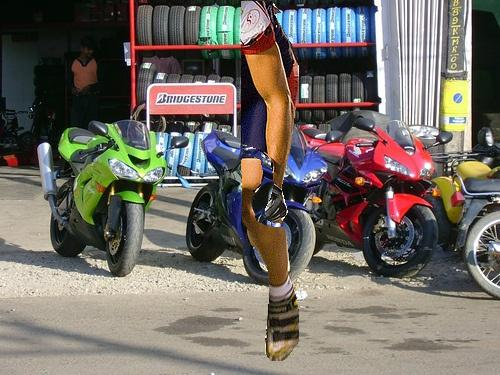tampered: (242, 2, 299, 361)
